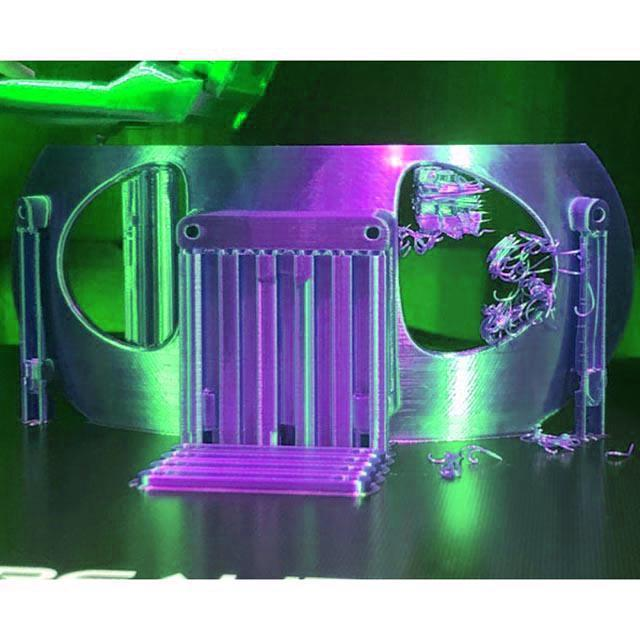Spaghetti: (384, 158, 594, 352), (517, 419, 639, 464), (420, 433, 506, 482)
